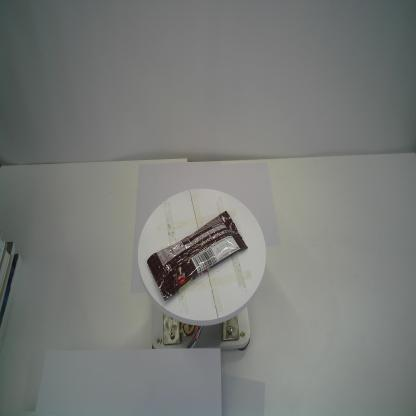Chocolate: (146, 210, 250, 304)
